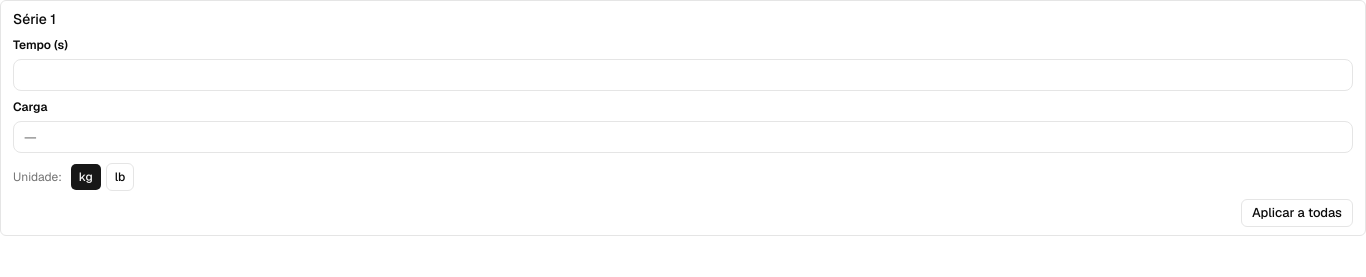
Test: SeriesCard › validações de inteiro (repetições e tempo) › tempo válido commita ('value', número); inválido mostra a mensagem exata do rótulo 'tempo'
Type "45" into the field labelled "Tempo (s)" at [683, 75], box [13,59,1353,91]
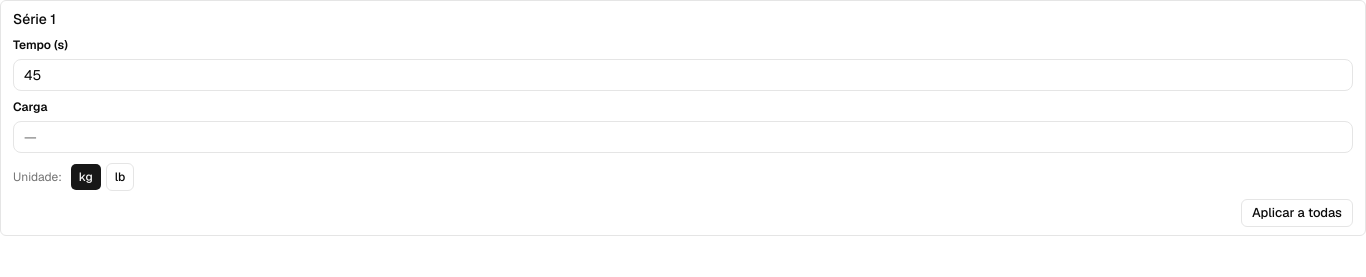
Replace the text in the field labelled "Tempo (s)" with "-1" at [683, 75], box [13,59,1353,91]
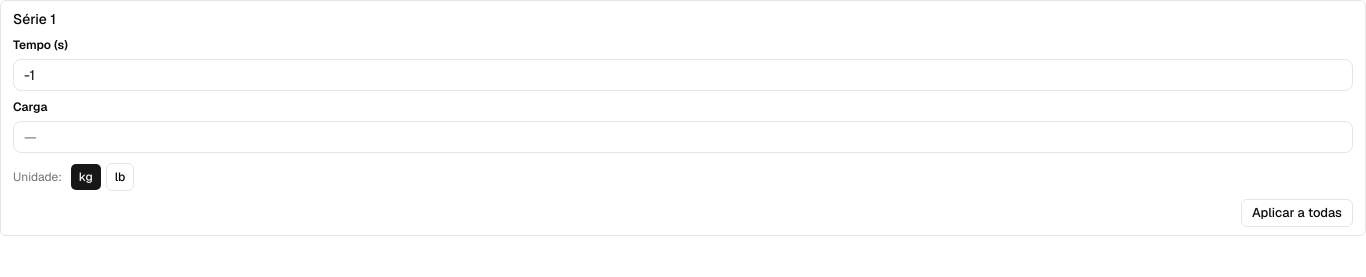
Leave the field labelled "Tempo (s)", box [13,59,1353,91]
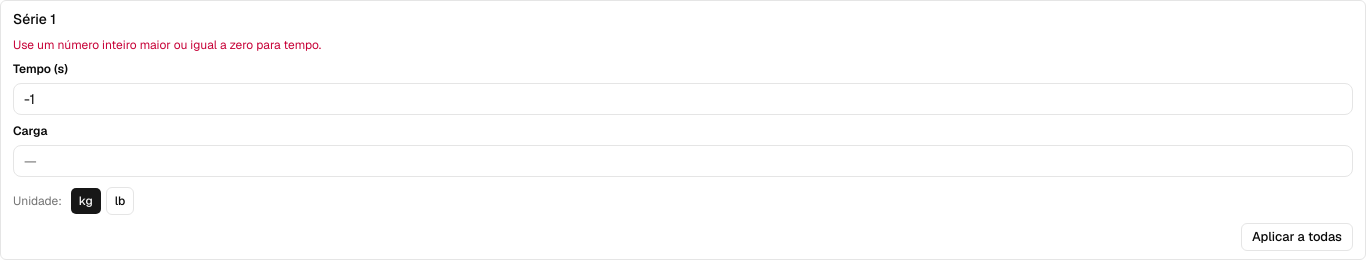
Expected: the text "Use um número inteiro maior ou igual a zero para tempo." is shown, [13,37,321,53]
